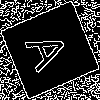A: (24, 25, 79, 75)
